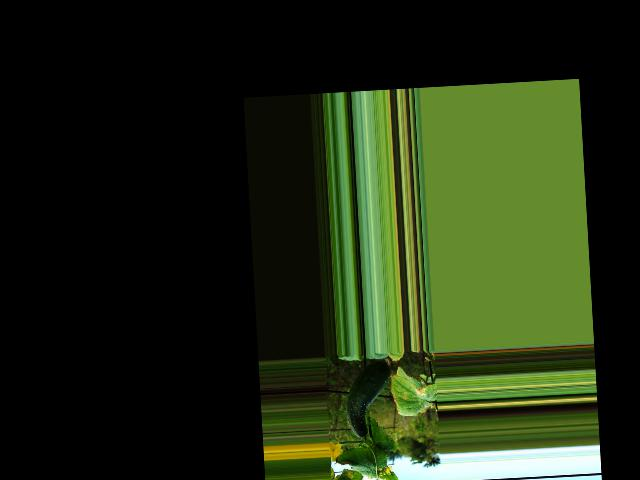cucumber: (343, 360, 394, 439)
